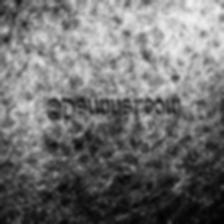Non-Cancerous Skin Condition: (62, 153, 192, 224), (0, 0, 113, 76)
